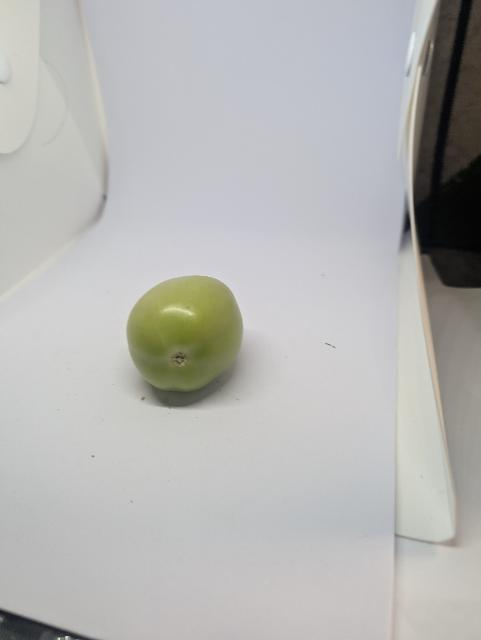green: (124, 272, 246, 395)
